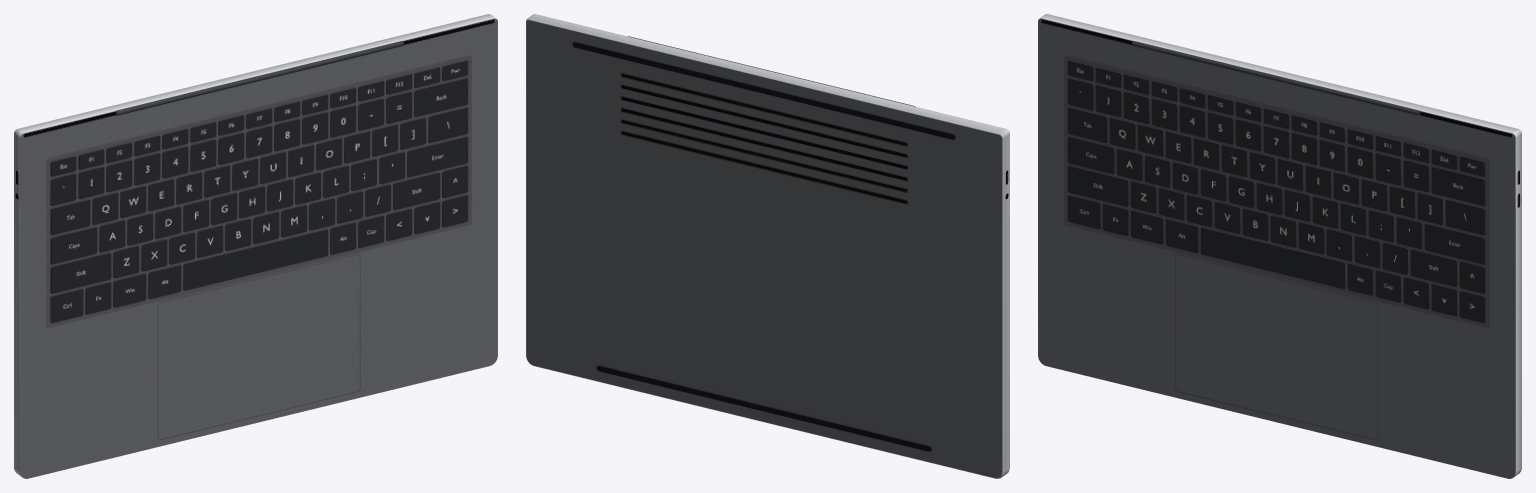
Rendered from body.obj.
The picture shows the model from 3 angles, left to right: view 1: azimuth 30°, elevation 25°; view 2: azimuth 150°, elevation 25°; view 3: azimuth 330°, elevation 25°; orthographic projection.
Visible parts, largest first — view 1: deck, keys, base.003, base.004, hinge; view 2: base, base.005, base.003, base.004; view 3: deck, keys, base.003, base.002, hinge.
Part boxes in pixels (left/top/right/bottom): deck: left=20, top=18, right=497, bottom=478; keys: left=50, top=60, right=467, bottom=322; base.003: left=15, top=14, right=496, bottom=134; base.004: left=14, top=131, right=22, bottom=477; hinge: left=116, top=41, right=403, bottom=115; base: left=526, top=18, right=1003, bottom=478; base.005: left=572, top=42, right=955, bottom=451; base.003: left=527, top=14, right=1008, bottom=134; base.004: left=1001, top=131, right=1009, bottom=477; deck: left=1038, top=18, right=1515, bottom=478; keys: left=1068, top=60, right=1485, bottom=322; base.003: left=1039, top=14, right=1520, bottom=134; base.002: left=1513, top=131, right=1521, bottom=477; hinge: left=1132, top=41, right=1419, bottom=115.
Size of the model in its own units: 311 by 216 by 9.7.
Materials: 8 (6 with a texture image).
